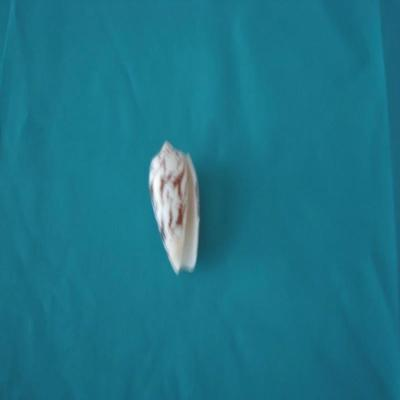natural_science_collection: (148, 142, 201, 276)
